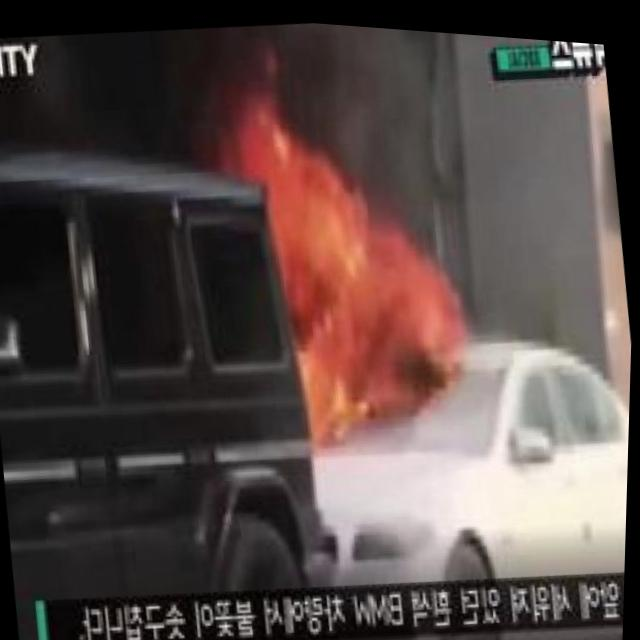Fire: (224, 113, 469, 428)
